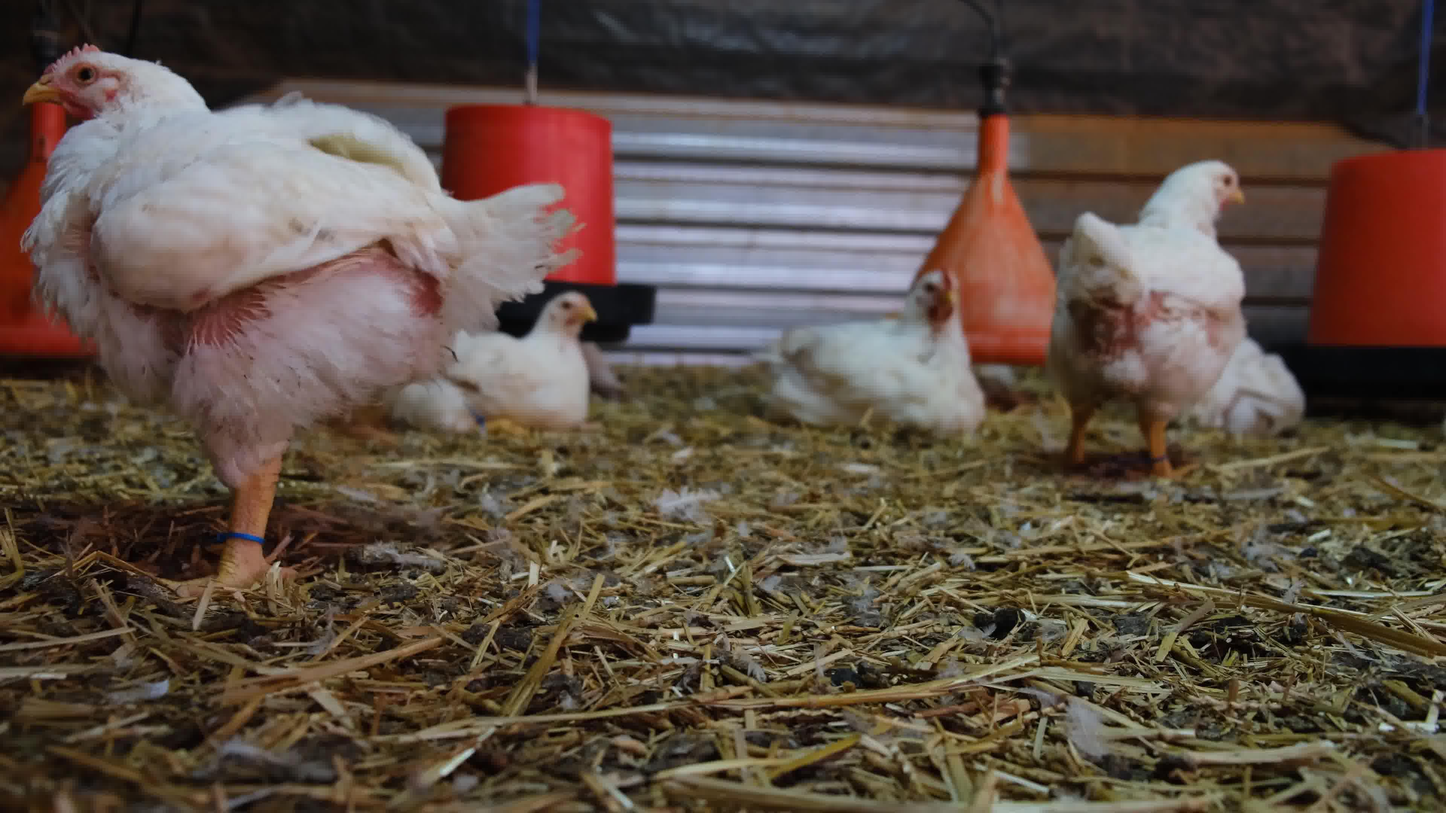AbNormal: (742, 271, 991, 425), (393, 294, 599, 429), (1156, 325, 1311, 431)
Normal: (19, 44, 578, 604), (1046, 160, 1251, 483)
